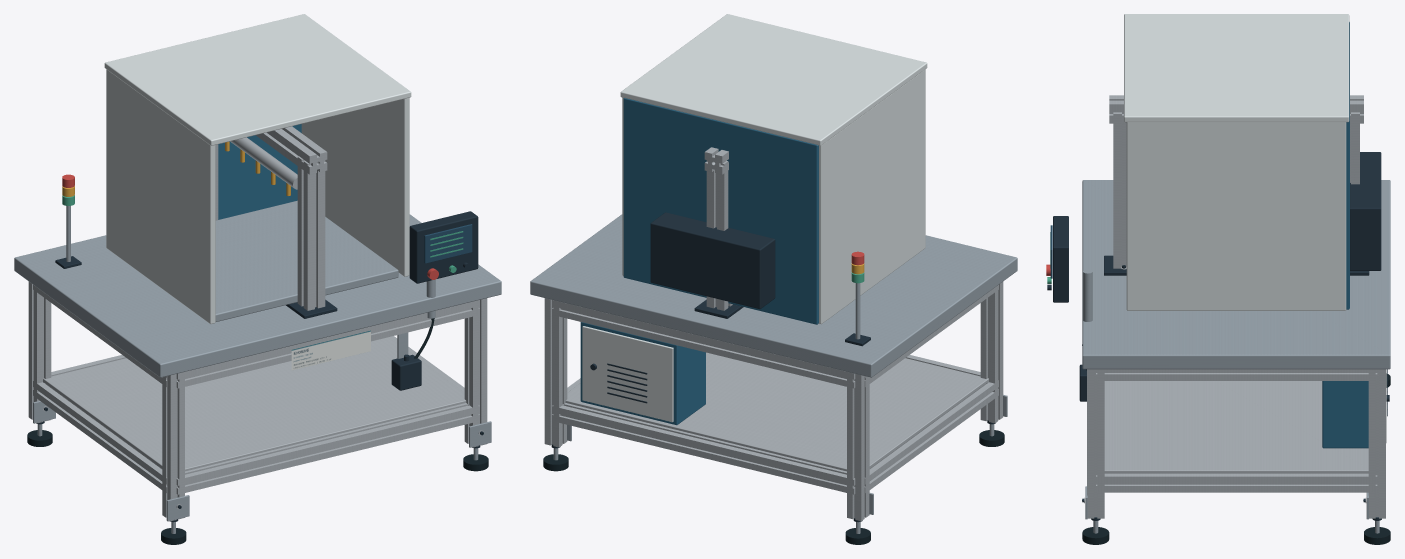
Rendered from powder-coating-cell.glb.
3 views of the same model, side by side, from view 1: azimuth 30°, elevation 25°; view 2: azimuth 150°, elevation 25°; view 3: azimuth 270°, elevation 25° (orthographic). The views are drawn at different scales.
Visible parts, largest first — view 1: LowerShelf_41, ClosedMachineBed_40, SprayBoothRoof_91, SprayBoothSide_88, SprayBoothSide_89, CatchTray_92, SlottedExtrusion_34, SprayBoothBack_90, SlottedExtrusion_76, SlottedExtrusion_35, SlottedExtrusion_11, SlottedExtrusion_36 (+9 smaller); view 2: ClosedMachineBed_40, SprayBoothBack_90, SprayBoothRoof_91, LowerShelf_41, SprayBoothSide_88, ExtractionPlenum_93, BackDoor_43, SlottedExtrusion_32, SlottedExtrusion_33, SlottedExtrusion_3, SlottedExtrusion_19, Cabinet_42 (+4 smaller); view 3: SprayBoothSide_89, ClosedMachineBed_40, SprayBoothRoof_91, LowerShelf_41, SlottedExtrusion_38, ExtractionPlenum_93, SlottedExtrusion_39, Cabinet_42, SlottedExtrusion_27, SlottedExtrusion_19, SlottedExtrusion_76, ConsoleBack_52 (+5 smaller).
Boxes of the visible parts, left/top/right/bottom form: LowerShelf_41: left=43, top=337, right=466, bottom=471; ClosedMachineBed_40: left=14, top=214, right=501, bottom=377; SprayBoothRoof_91: left=104, top=14, right=411, bottom=145; SprayBoothSide_88: left=106, top=69, right=215, bottom=324; SprayBoothSide_89: left=301, top=97, right=409, bottom=276; CatchTray_92: left=215, top=200, right=398, bottom=321; SlottedExtrusion_34: left=176, top=403, right=479, bottom=494; SprayBoothBack_90: left=218, top=124, right=301, bottom=219; SlottedExtrusion_76: left=297, top=156, right=325, bottom=310; SlottedExtrusion_35: left=176, top=300, right=479, bottom=388; SlottedExtrusion_11: left=162, top=372, right=184, bottom=520; SlottedExtrusion_36: left=33, top=380, right=167, bottom=493; ClosedMachineBed_40: left=530, top=214, right=1017, bottom=377; SprayBoothBack_90: left=623, top=98, right=818, bottom=324; SprayBoothRoof_91: left=620, top=14, right=927, bottom=145; LowerShelf_41: left=565, top=352, right=988, bottom=471; SprayBoothSide_88: left=818, top=69, right=925, bottom=324; ExtractionPlenum_93: left=650, top=212, right=775, bottom=309; BackDoor_43: left=582, top=326, right=673, bottom=422; SlottedExtrusion_32: left=552, top=403, right=855, bottom=494; SlottedExtrusion_33: left=552, top=300, right=855, bottom=388; SlottedExtrusion_3: left=847, top=372, right=869, bottom=520; SlottedExtrusion_19: left=544, top=298, right=567, bottom=447; Cabinet_42: left=580, top=322, right=705, bottom=425; SprayBoothSide_89: left=1126, top=122, right=1346, bottom=310; ClosedMachineBed_40: left=1082, top=180, right=1390, bottom=369; SprayBoothRoof_91: left=1124, top=14, right=1349, bottom=122; LowerShelf_41: left=1104, top=381, right=1368, bottom=473; SlottedExtrusion_38: left=1096, top=473, right=1377, bottom=492; ExtractionPlenum_93: left=1350, top=152, right=1381, bottom=270; SlottedExtrusion_39: left=1096, top=369, right=1377, bottom=380; Cabinet_42: left=1322, top=381, right=1368, bottom=448; SlottedExtrusion_27: left=1087, top=369, right=1104, bottom=518; SlottedExtrusion_19: left=1368, top=369, right=1385, bottom=518; SlottedExtrusion_76: left=1113, top=112, right=1126, bottom=268; ConsoleBack_52: left=1053, top=216, right=1068, bottom=302.
Size of the model in its own units: 1.55 by 1.63 by 1.29.
11 materials, 3 textured.
